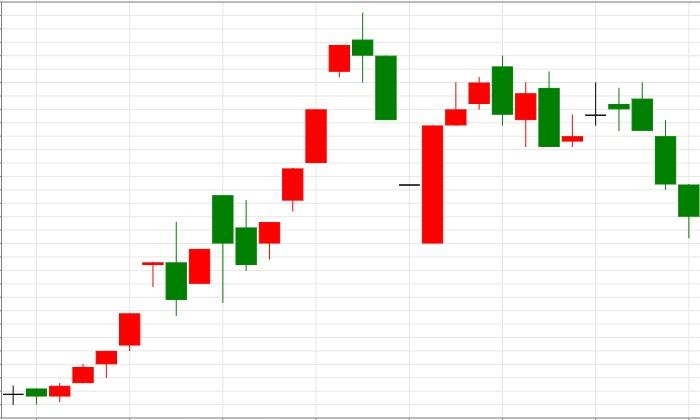bearish_engulfing_fall: (422, 56, 513, 244)
